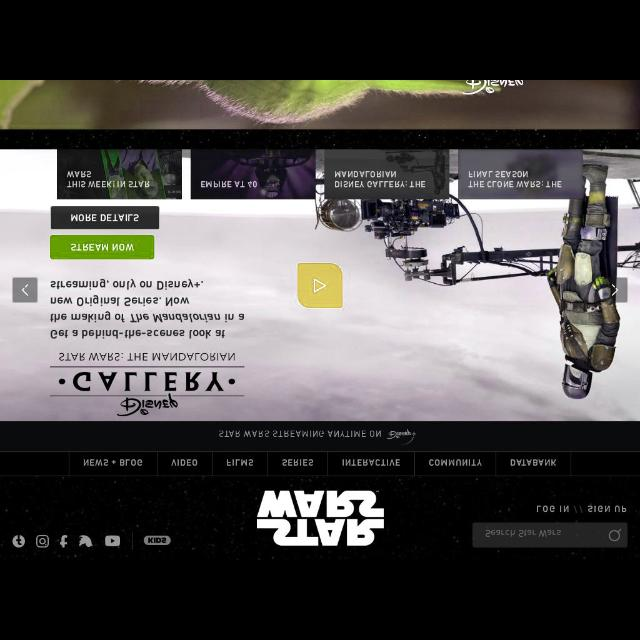backgroundimage: (1, 150, 640, 420)
button: (298, 264, 342, 308), (13, 278, 37, 302), (603, 278, 627, 302)
icon: (608, 528, 622, 542), (314, 278, 326, 294), (22, 284, 30, 296), (610, 284, 618, 296)
image: (1, 81, 639, 129), (50, 349, 244, 416), (256, 489, 384, 546), (190, 150, 316, 198), (58, 150, 182, 198), (325, 150, 449, 198), (459, 150, 583, 198), (387, 429, 417, 445), (142, 534, 172, 546), (78, 534, 94, 548), (12, 534, 26, 548), (36, 534, 50, 548), (104, 535, 120, 547), (58, 534, 68, 548)
input: (473, 523, 627, 547)
multitab: (1, 452, 640, 476)
text: (50, 279, 244, 339), (218, 429, 382, 438), (484, 528, 562, 538), (341, 458, 401, 468), (83, 458, 143, 466), (428, 458, 482, 466), (510, 458, 558, 466), (535, 504, 569, 514), (282, 458, 314, 467), (170, 458, 198, 468), (587, 506, 627, 512), (226, 459, 254, 467), (574, 505, 582, 513)
textbutton: (51, 235, 155, 259), (51, 207, 159, 230)
